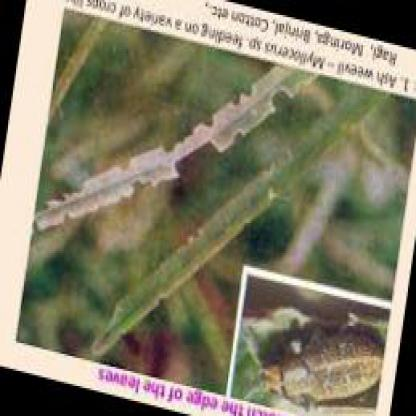ash weevil: (241, 333, 385, 401)
